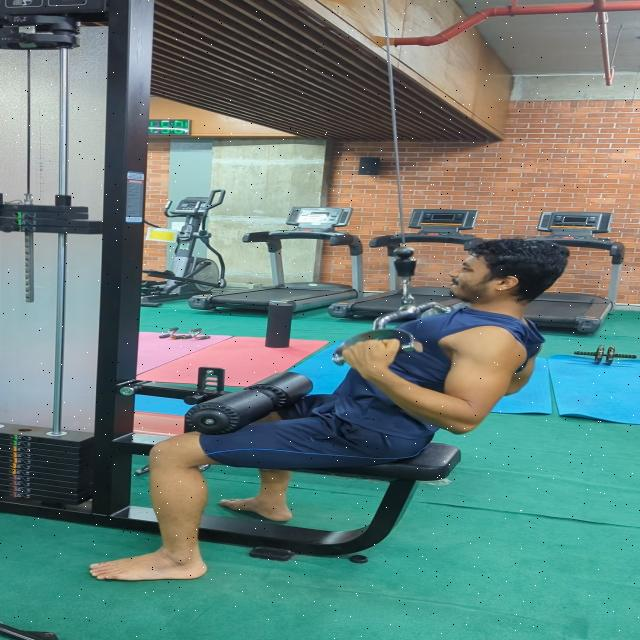Normal_LatPulldown: (62, 230, 590, 593)
